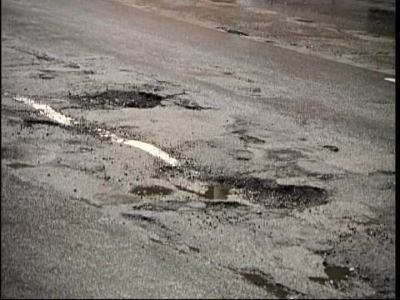pothole: (152, 160, 330, 214), (65, 87, 164, 112), (234, 265, 307, 298), (306, 260, 371, 296)
